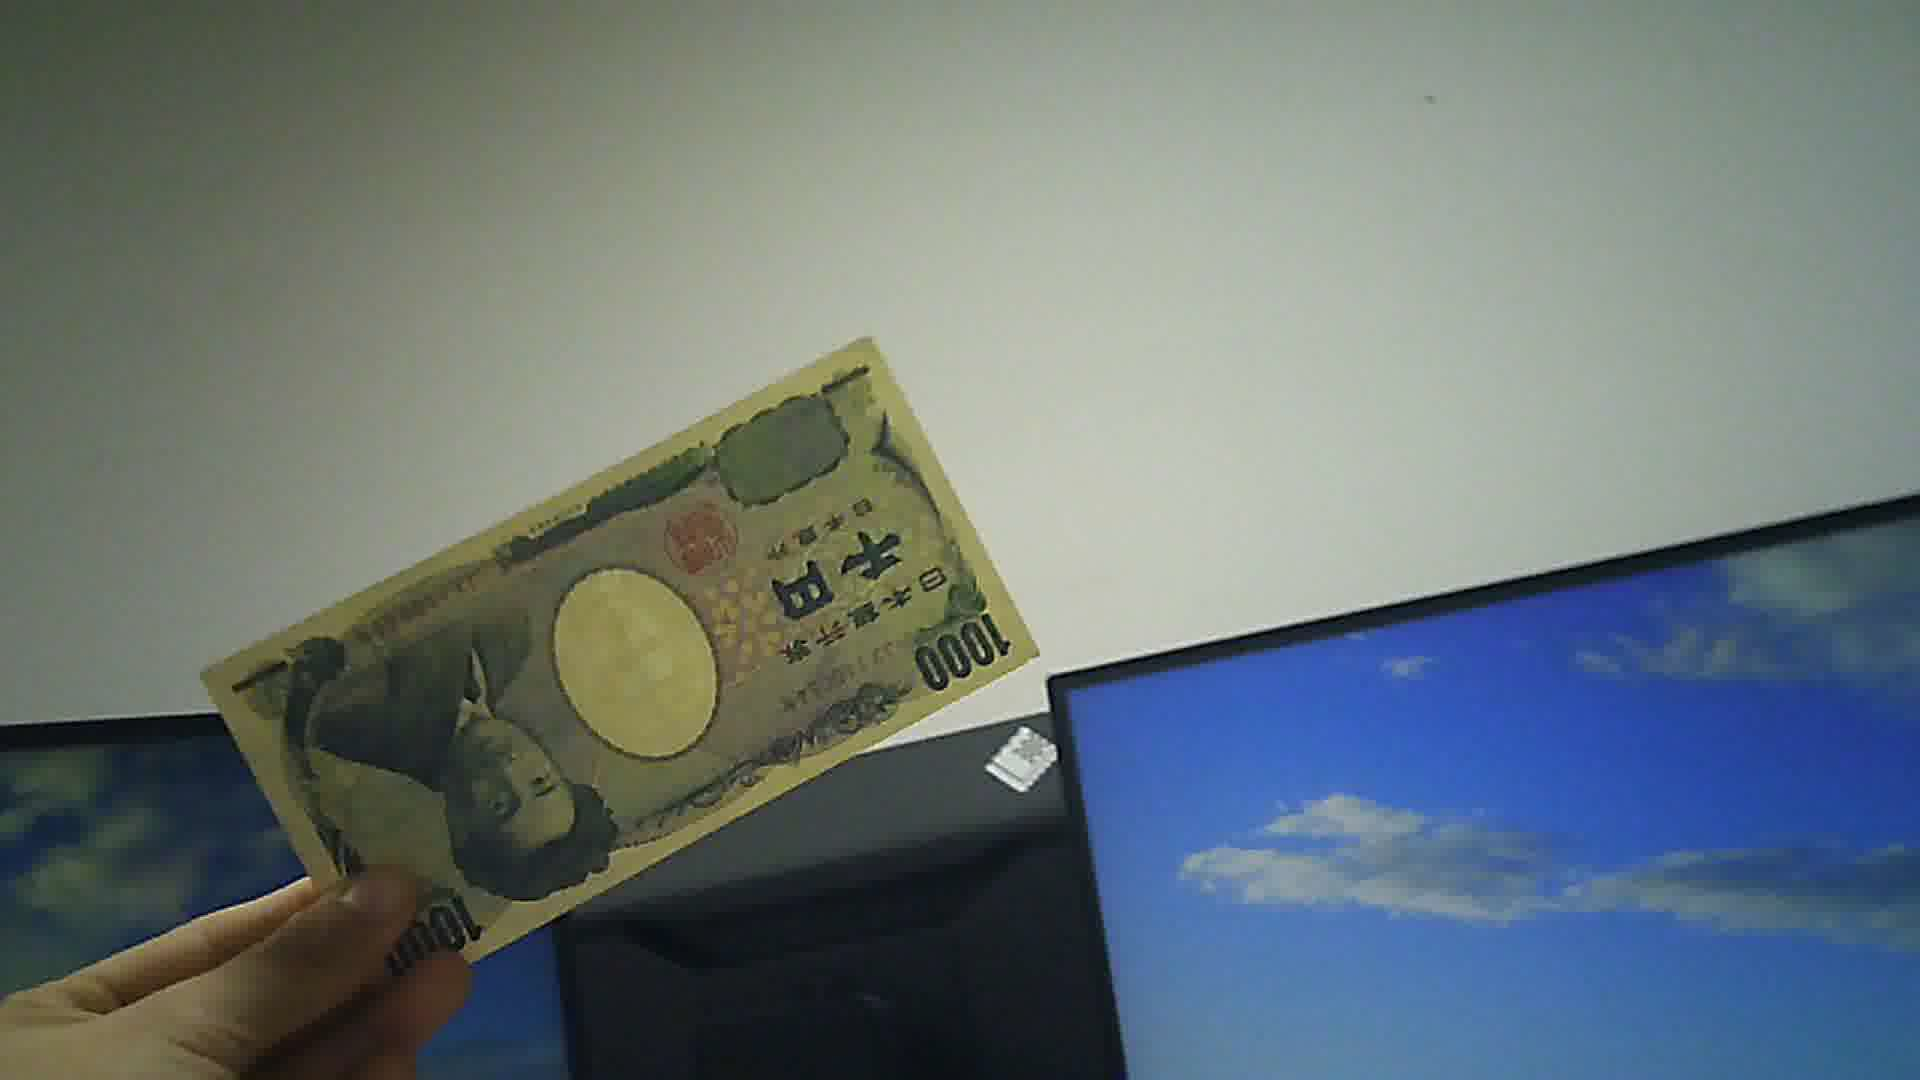1,000 Yen: (196, 338, 1046, 1000)
